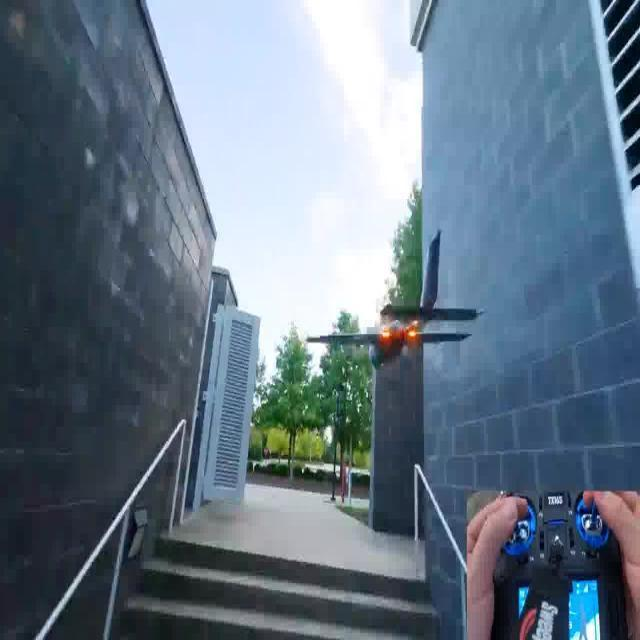iha: (300, 218, 477, 382)
